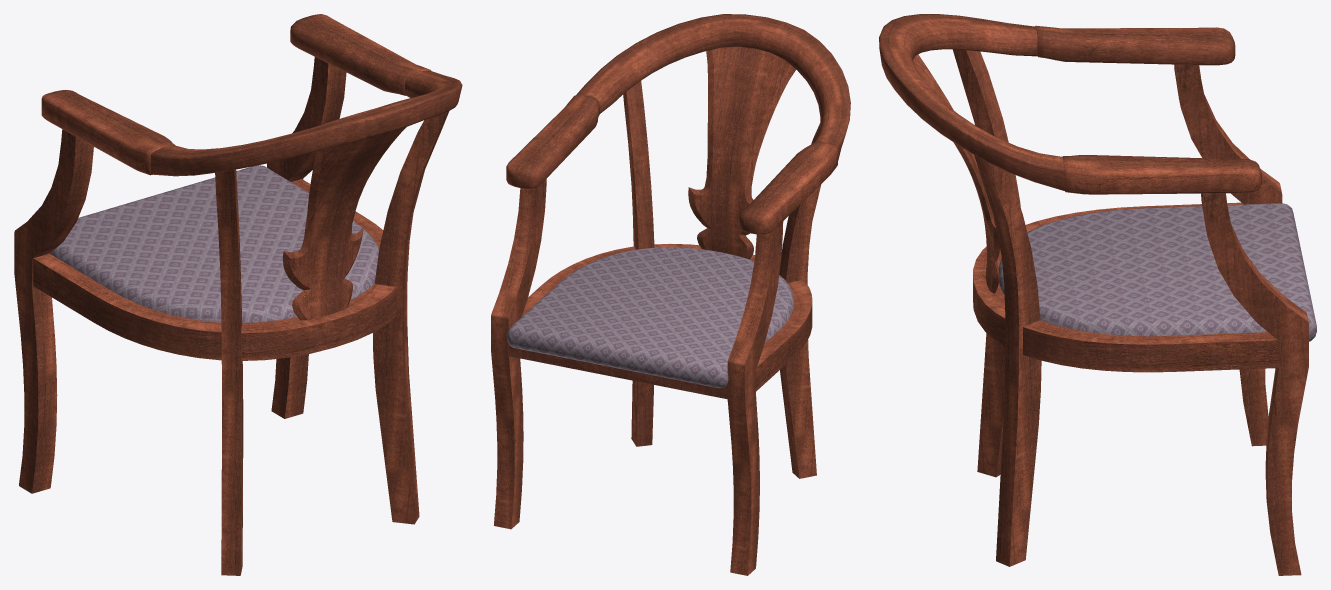
Rendered from tuoli.glb.
3 renders of one model, left to right at view 1: azimuth 30°, elevation 25°; view 2: azimuth 150°, elevation 25°; view 3: azimuth 270°, elevation 25°, orthographic. The views are drawn at different scales.
Parts seen in each view (by area): view 1: tyotuoli; view 2: tyotuoli; view 3: tyotuoli.
Boxes of the visible parts, x1,y1,x2,y2 form: tyotuoli: (14, 14, 462, 575); tyotuoli: (491, 14, 850, 575); tyotuoli: (879, 14, 1316, 575).
Size of the model in its own units: 2.2 by 3.2 by 2.68.
2 materials, 2 textured.
